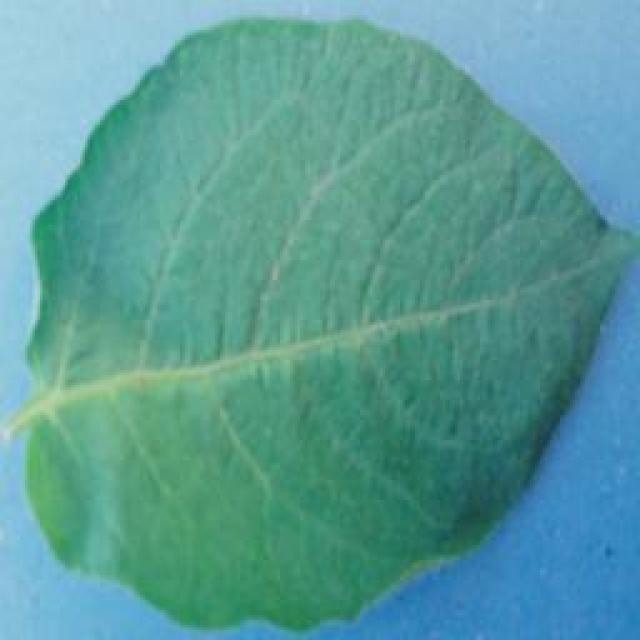Potato_Healthy: (13, 15, 636, 629)
